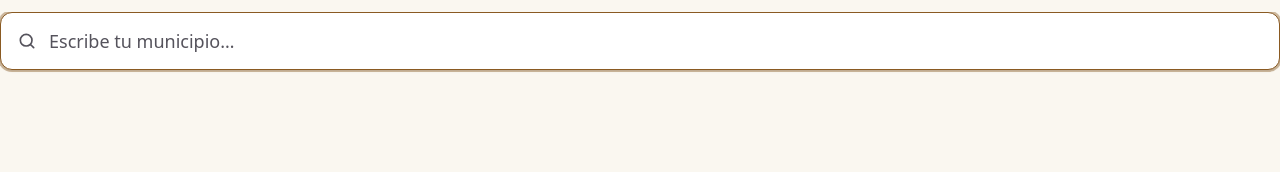
it: MunicipalitySearch › shows the municipality with its province
In the dropdown: (656, 41) [49,13,1263,69], type "palma"
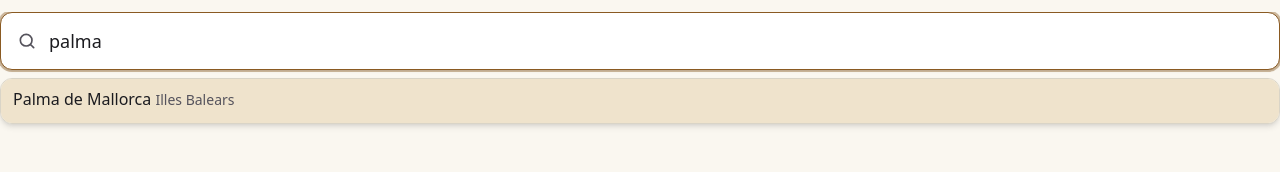
Check: the option shows "Palma", box [1,79,1279,123]
Check: the option shows "Illes Balears", box [1,79,1279,123]
